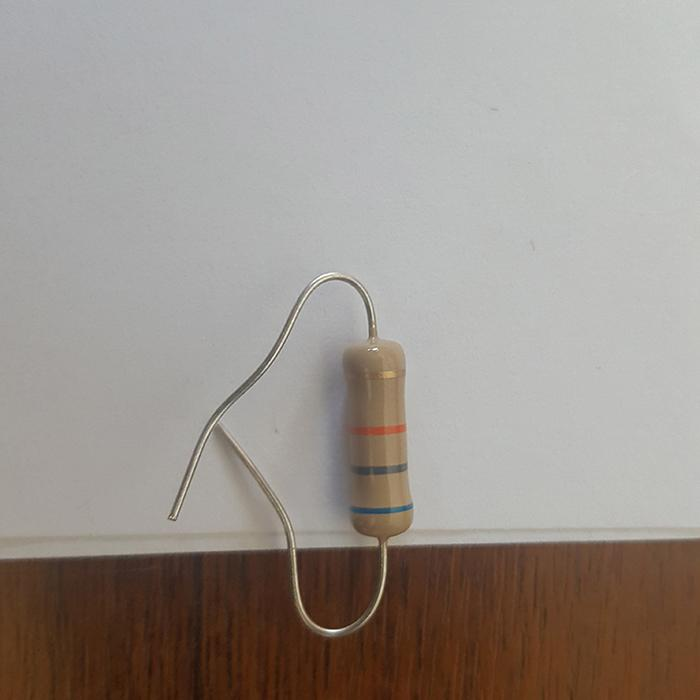resistor: (341, 333, 415, 540)
